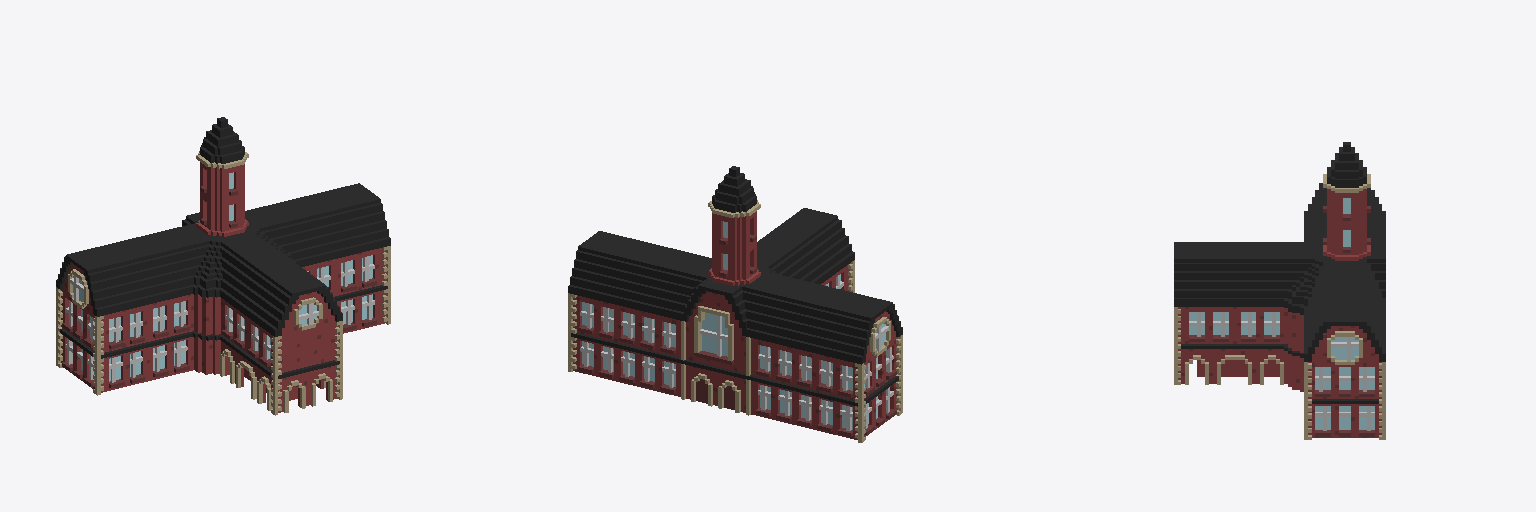
3 renders of one model, left to right at view 1: azimuth 30°, elevation 25°; view 2: azimuth 150°, elevation 25°; view 3: azimuth 270°, elevation 25°, orthographic.
Parts seen in each view (by area): view 1: Dutch_T; view 2: Dutch_T; view 3: Dutch_T.
Part boxes in pixels (x1,y1,x2,y2): Dutch_T: (56,117,390,415); Dutch_T: (568,166,902,442); Dutch_T: (1174,142,1385,439).
Size of the model in its own units: 86 by 63 by 54.
Materials: 1 (1 with a texture image).